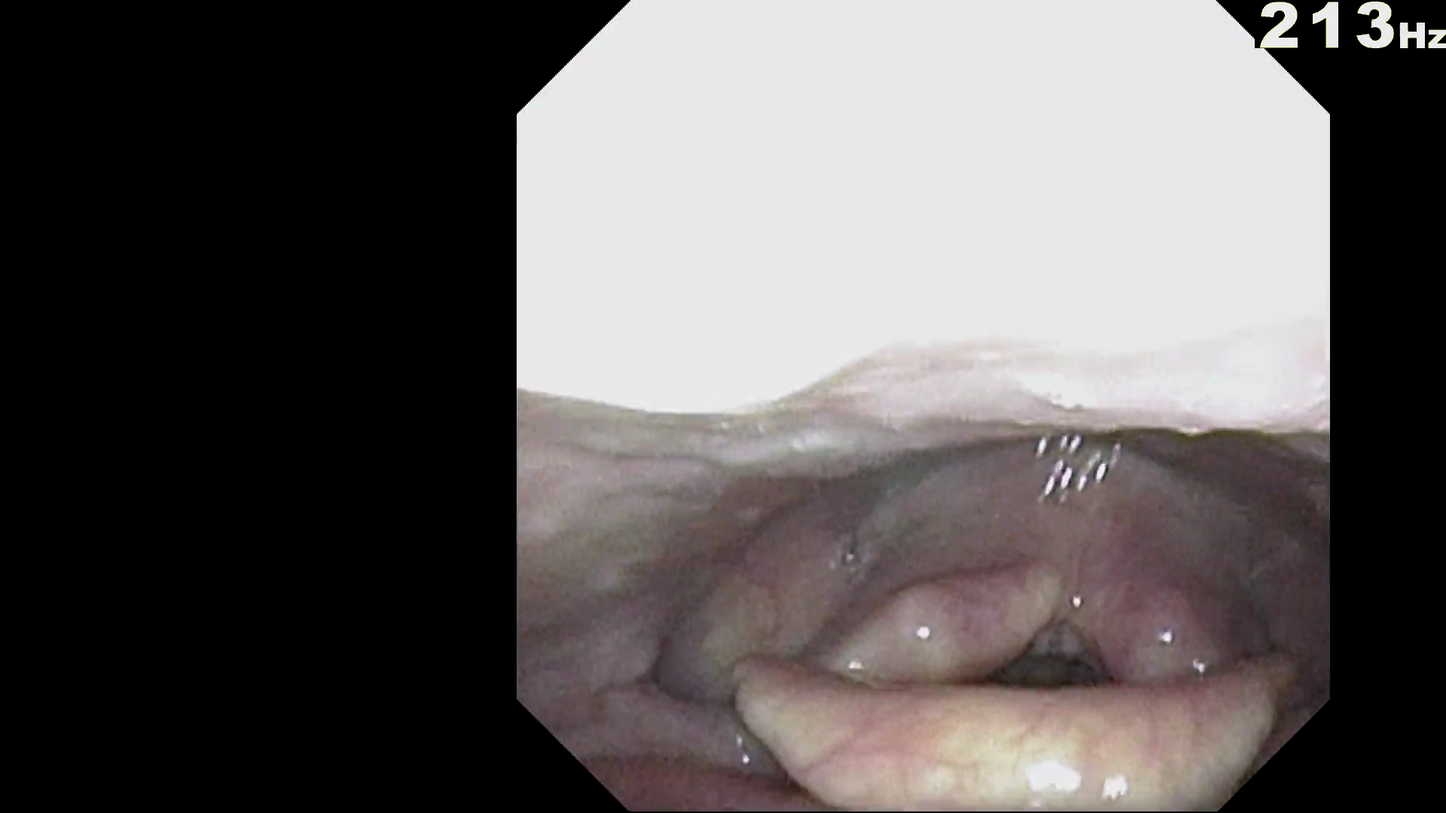epiglottis: (707, 646, 1249, 786)
trachea: (963, 609, 1114, 701)
